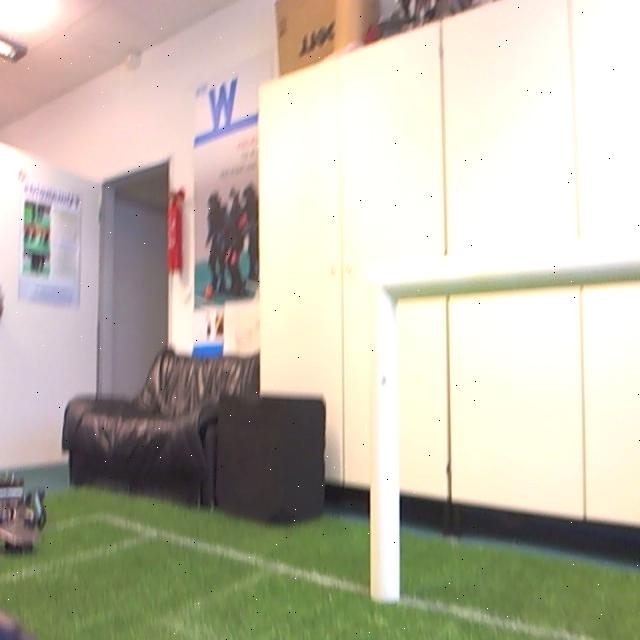goalpost: (369, 281, 400, 599)
